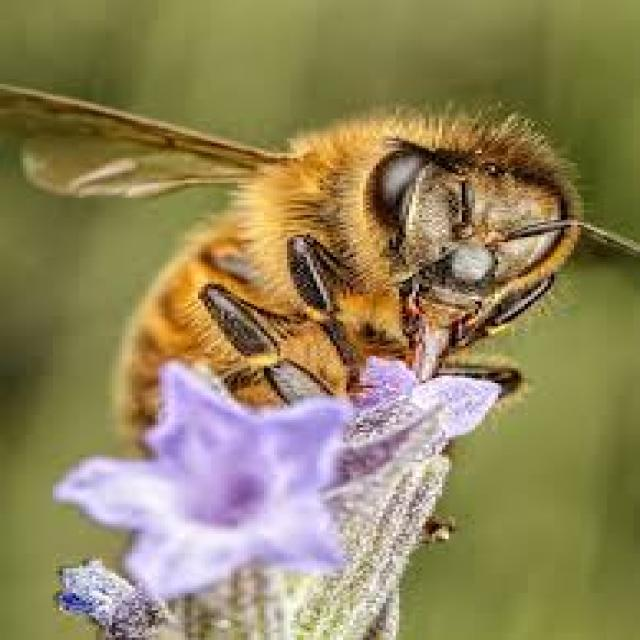Bees: (3, 79, 640, 460)
